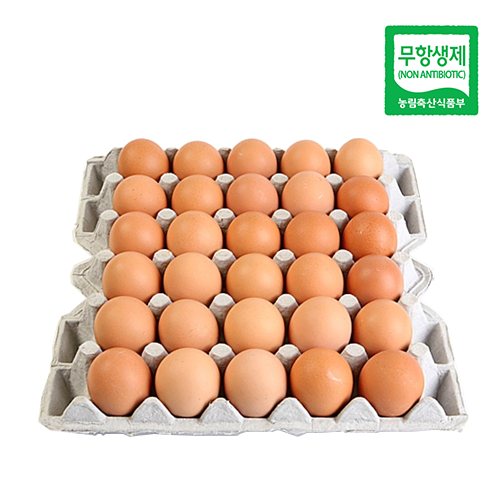egg: (88, 138, 425, 421)
